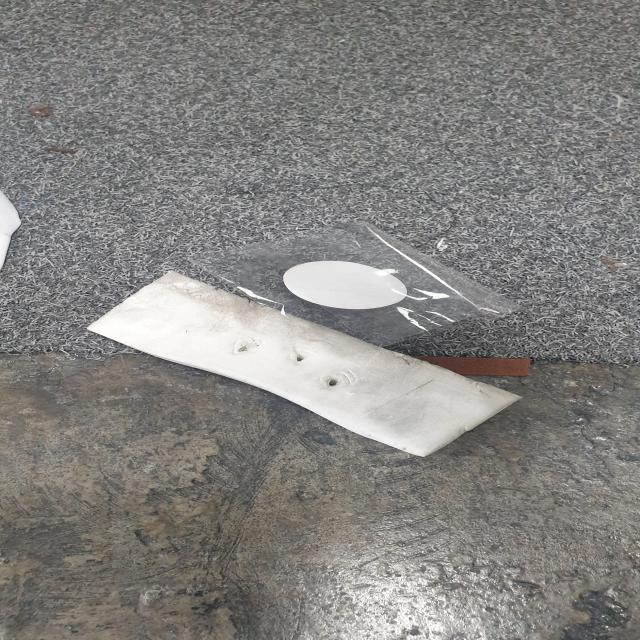litter: (149, 206, 536, 358)
